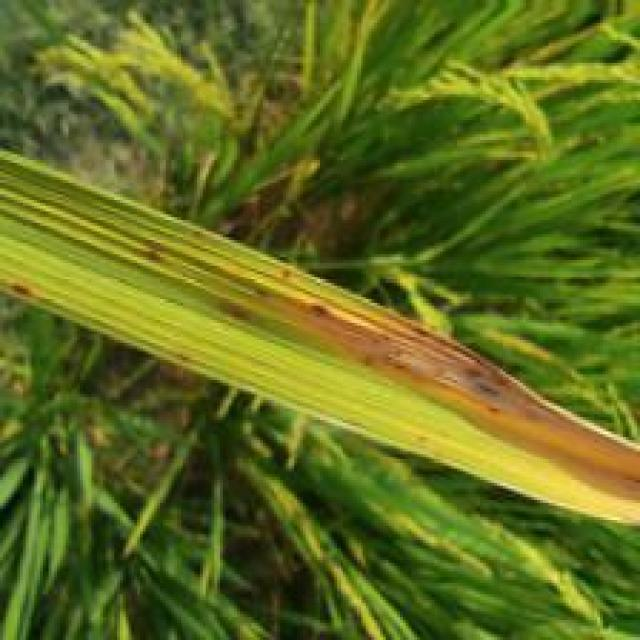Bacterial_Leaf_Blight: (286, 300, 606, 445)
